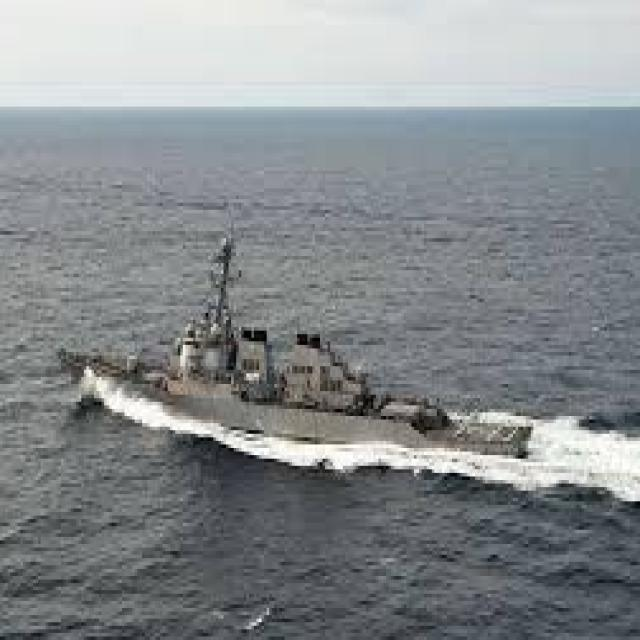navalvessels: (54, 173, 566, 451)
